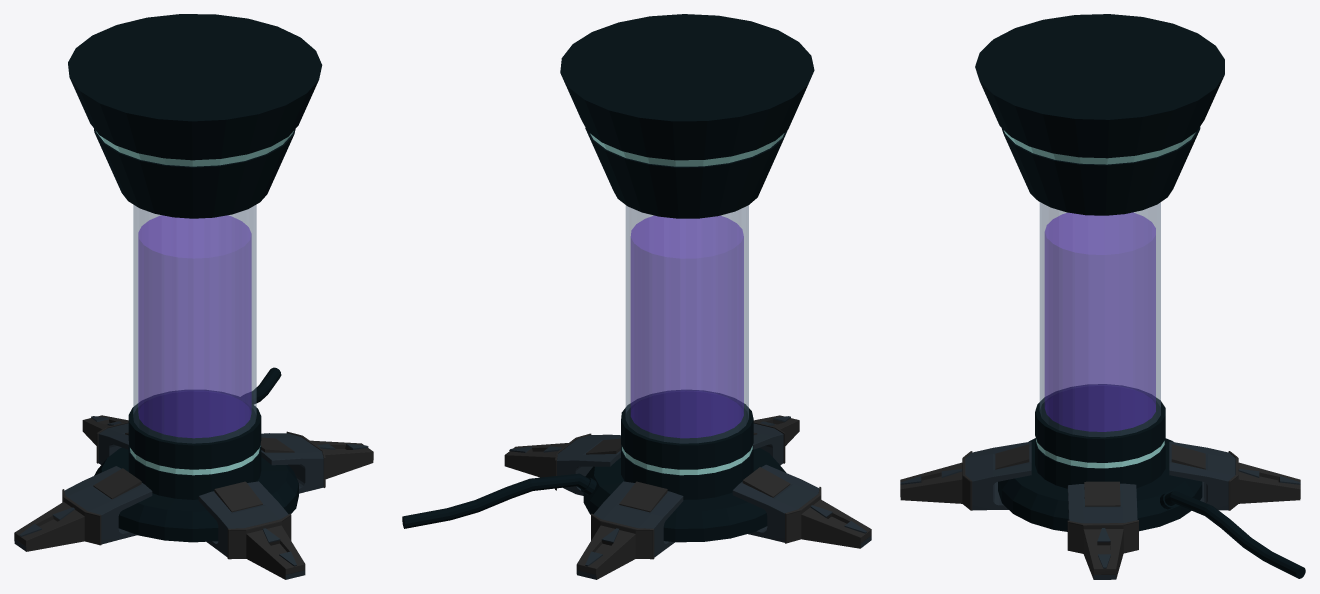
3 renders of one model, left to right at view 1: azimuth 30°, elevation 25°; view 2: azimuth 150°, elevation 25°; view 3: azimuth 270°, elevation 25°, orthographic.
Parts seen in each view (by area): view 1: leg, liquid; view 2: leg, liquid; view 3: leg, liquid.
Part boxes in pixels (<box>): leg: <box>14,14,373,579</box>; liquid: <box>138,215,251,437</box>; leg: <box>402,14,871,579</box>; liquid: <box>631,216,743,437</box>; leg: <box>900,14,1305,579</box>; liquid: <box>1045,212,1155,431</box>.
Bounding box in the file's own units: 7.98 × 7.84 × 9.16.
